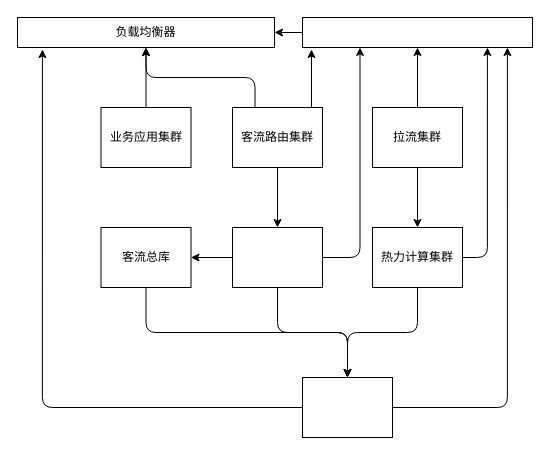
Some shapes in this 550 by 455 pixel diagram are drawn without their labels. The box of each missing label's shape, as (x1, y1, x2, y2) in pixels:
ETCD集群: (302, 16, 532, 48)
GPU集群: (302, 376, 392, 438)
客流底库集群: (232, 226, 322, 288)
